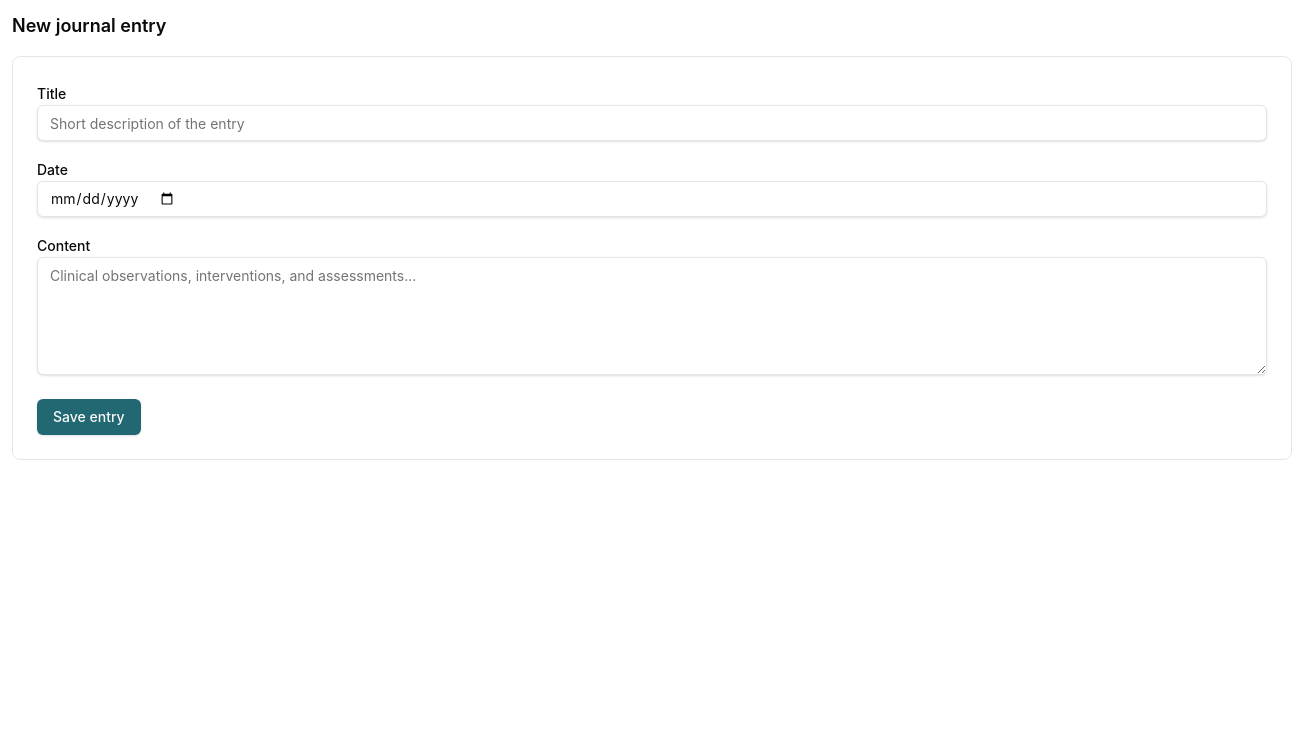
Test: JournalForm › clears field errors when the user fixes text fields
Click the button "Save entry" at (89, 417), box [37,399,141,435]
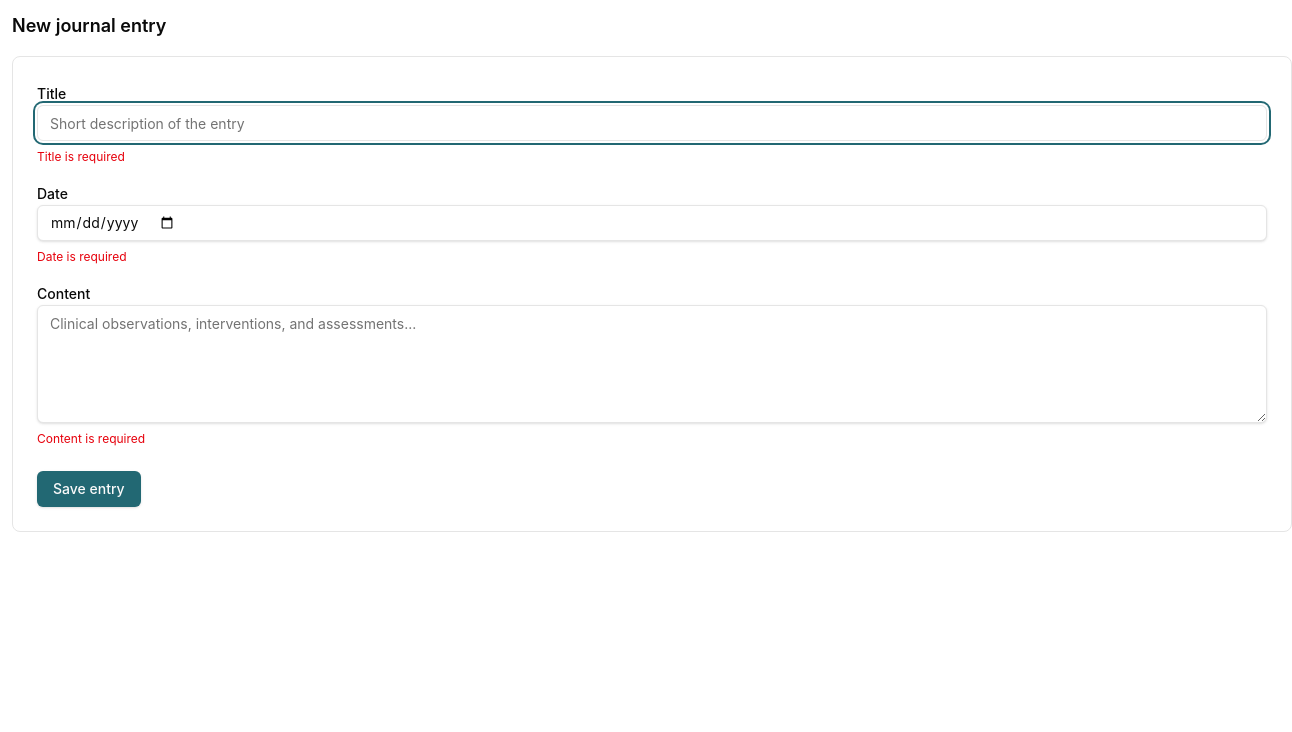
Check: the text "Title is required" is shown, box [37,149,125,164]
Check: the text "Content is required" is shown, box [37,431,145,446]
Type "ECG follow-up" into the field labelled "Title" at (652, 123), box [37,105,1267,141]
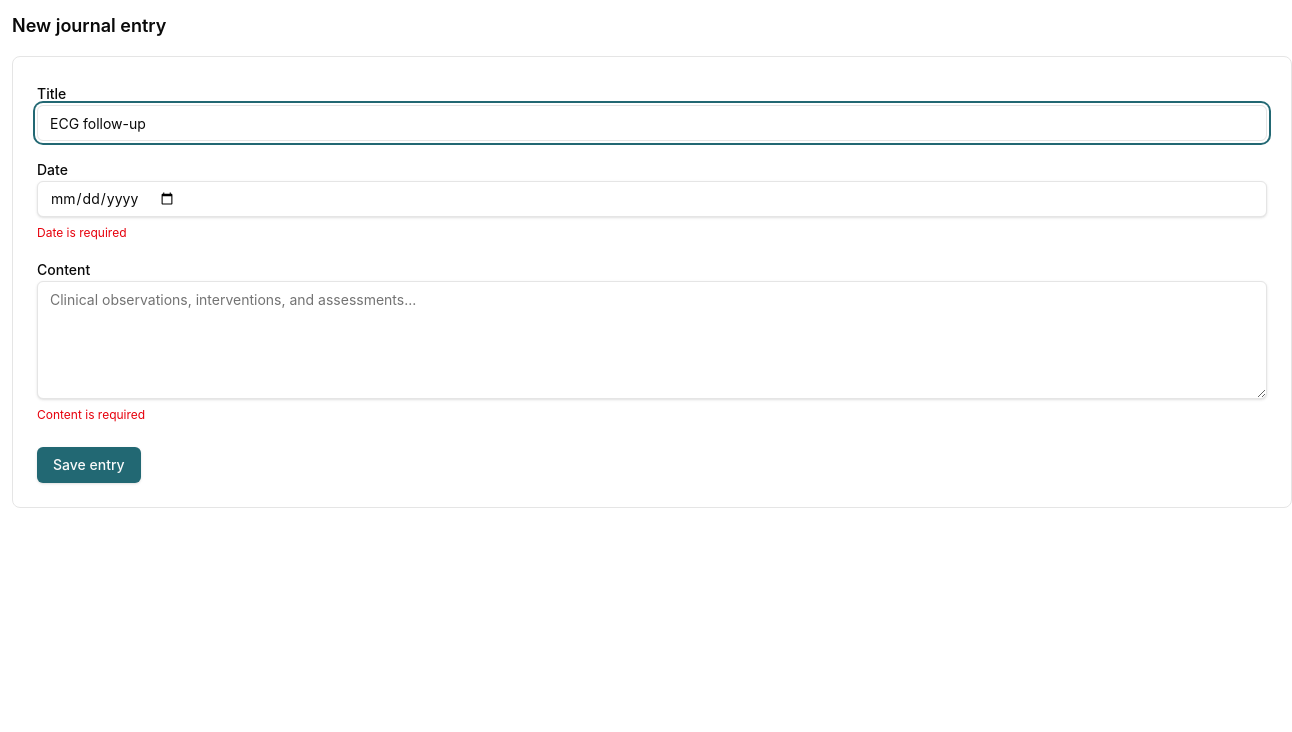
Type "Patient reports improved symptoms." into the text box labelled "Content" at (652, 340), box [37,281,1267,399]
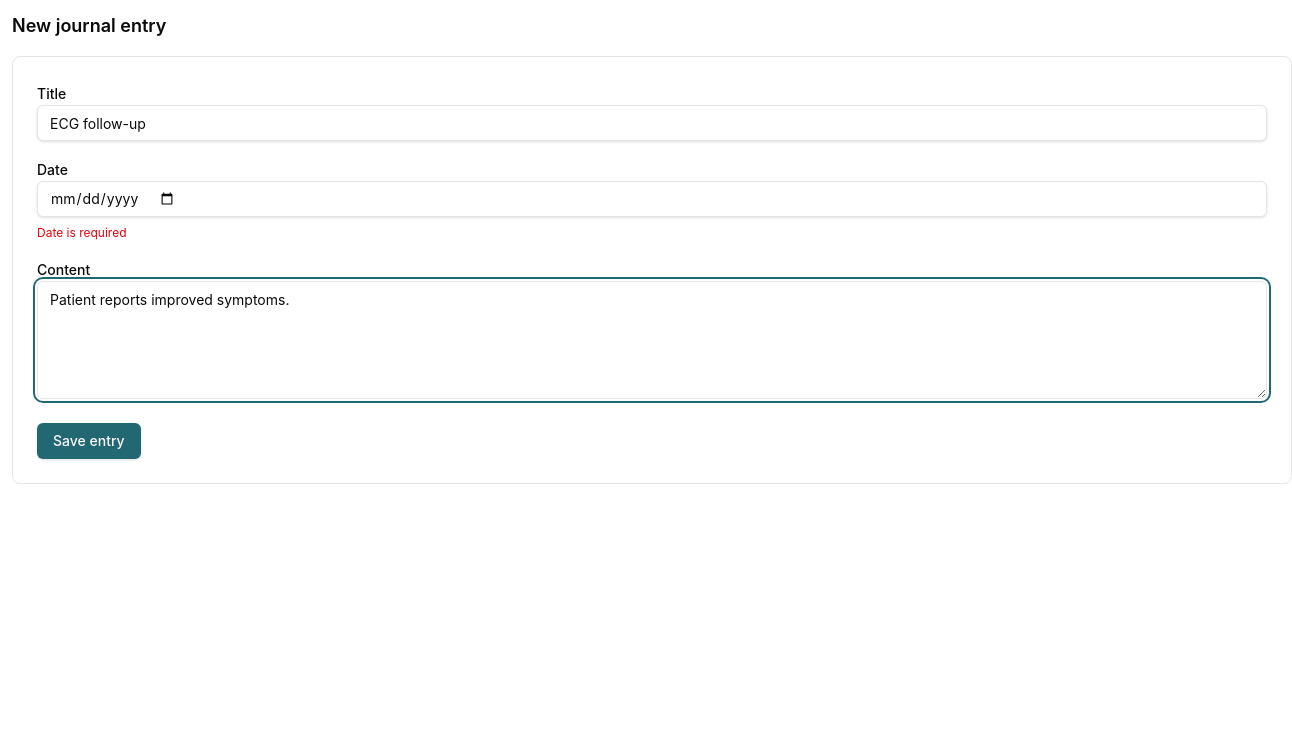
Check: the text "Title is required" is not shown
Check: the text "Content is required" is gone
